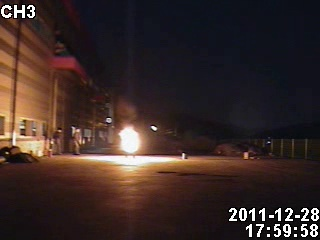fire: (117, 124, 141, 154)
